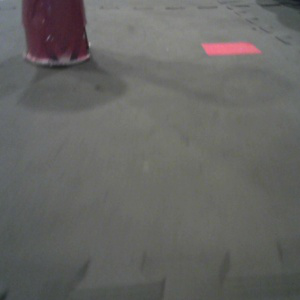middle: (17, 1, 93, 68)
